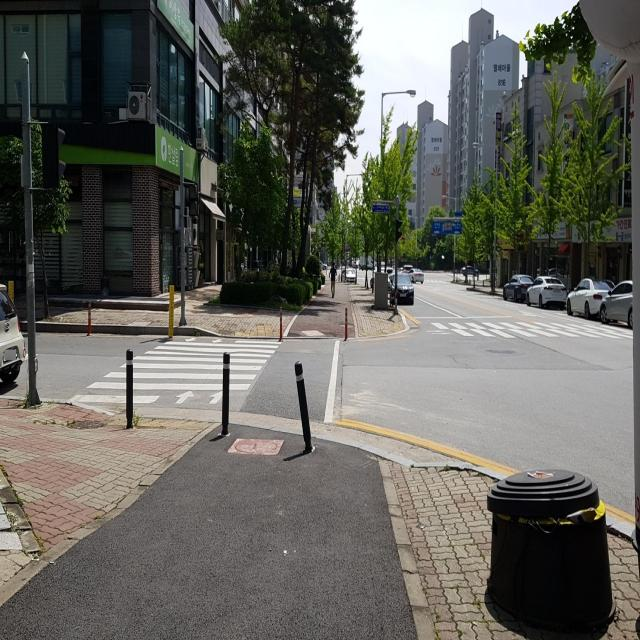횡단보도: (68, 336, 284, 406), (430, 315, 638, 344)
